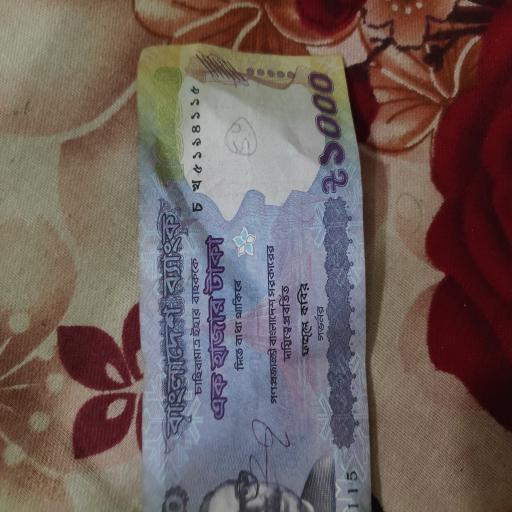1000taka: (141, 43, 373, 512)
